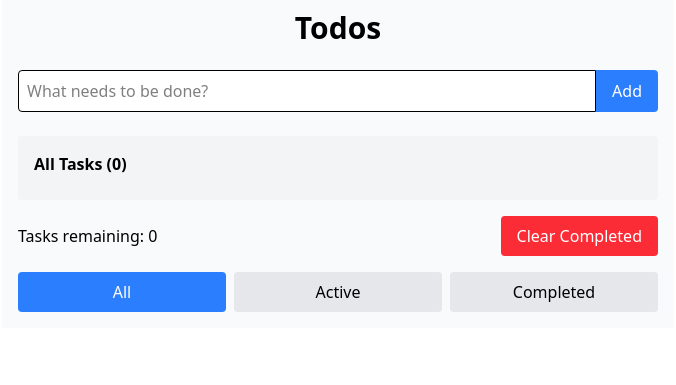
Scenario: Todos › clears completed todos
This screenshot has width=676, height=385.
In the field with placeholder "What needs to be done?": coordinates (307, 91) x1=18 y1=70 x2=596 y2=112, type "Keep this"
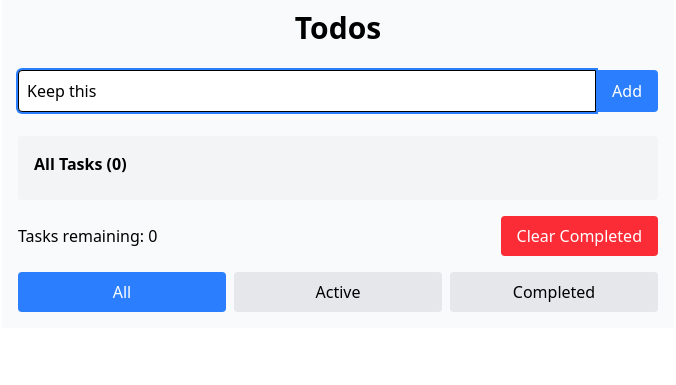
Click the button "Add": coordinates (627, 91) x1=596 y1=70 x2=658 y2=112
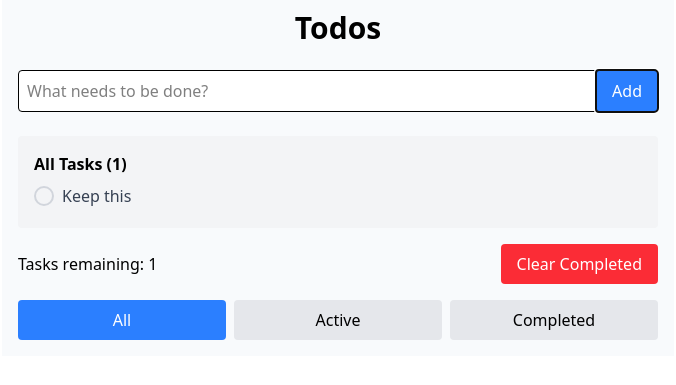
In the field with placeholder "What needs to be done?": coordinates (307, 91) x1=18 y1=70 x2=596 y2=112, type "Delete this"
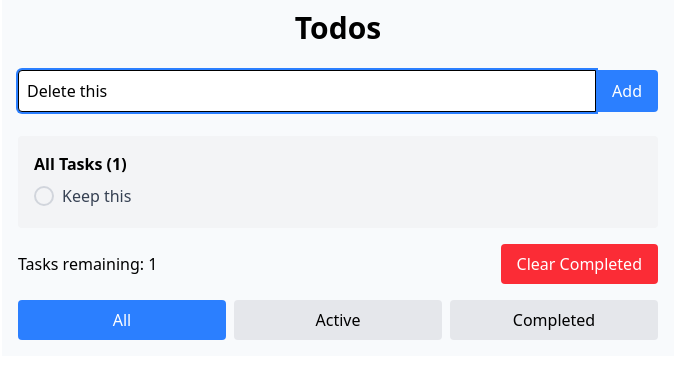
Click the button "Add": coordinates (627, 91) x1=596 y1=70 x2=658 y2=112
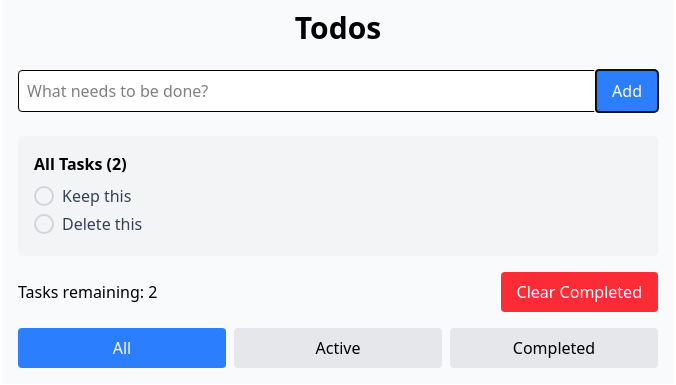
Click the checkbox labelled "Delete this": coordinates (88, 224) x1=34 y1=212 x2=142 y2=236
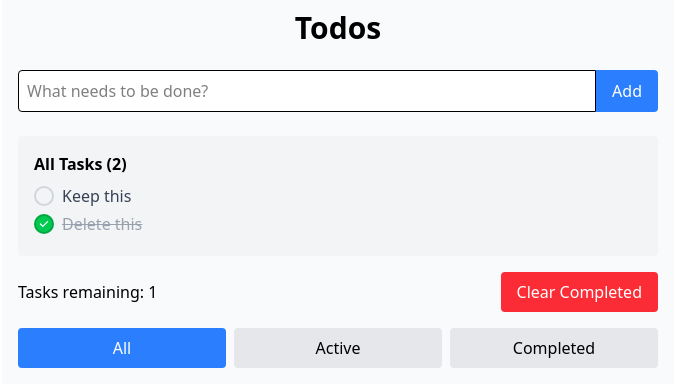
Click the button "Clear Completed": coordinates (579, 292) x1=501 y1=272 x2=658 y2=312
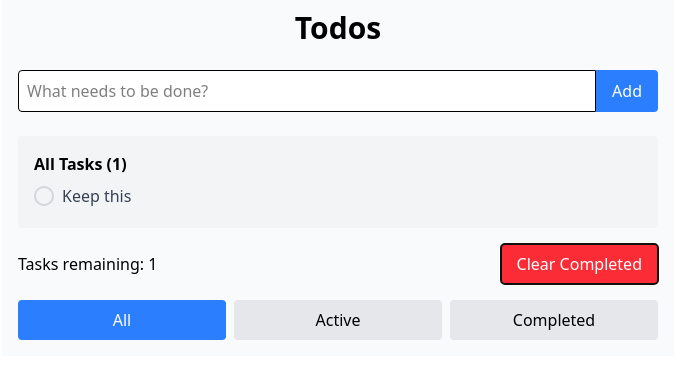
Expected: the text "Tasks remaining: 1" is shown, x1=18 y1=252 x2=157 y2=276
Expected: the number of list items is 1, x1=34 y1=185 x2=131 y2=207
